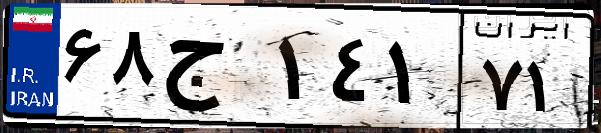1: (270, 28, 330, 110), (385, 28, 445, 110), (525, 38, 570, 115)
4: (330, 28, 385, 110)
6: (57, 26, 110, 100)
7: (475, 38, 525, 113)
8: (110, 28, 158, 98)
ج: (158, 20, 270, 120)
